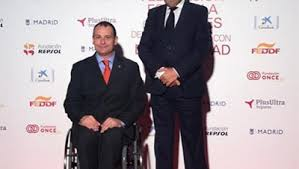person: (67, 16, 139, 85)
